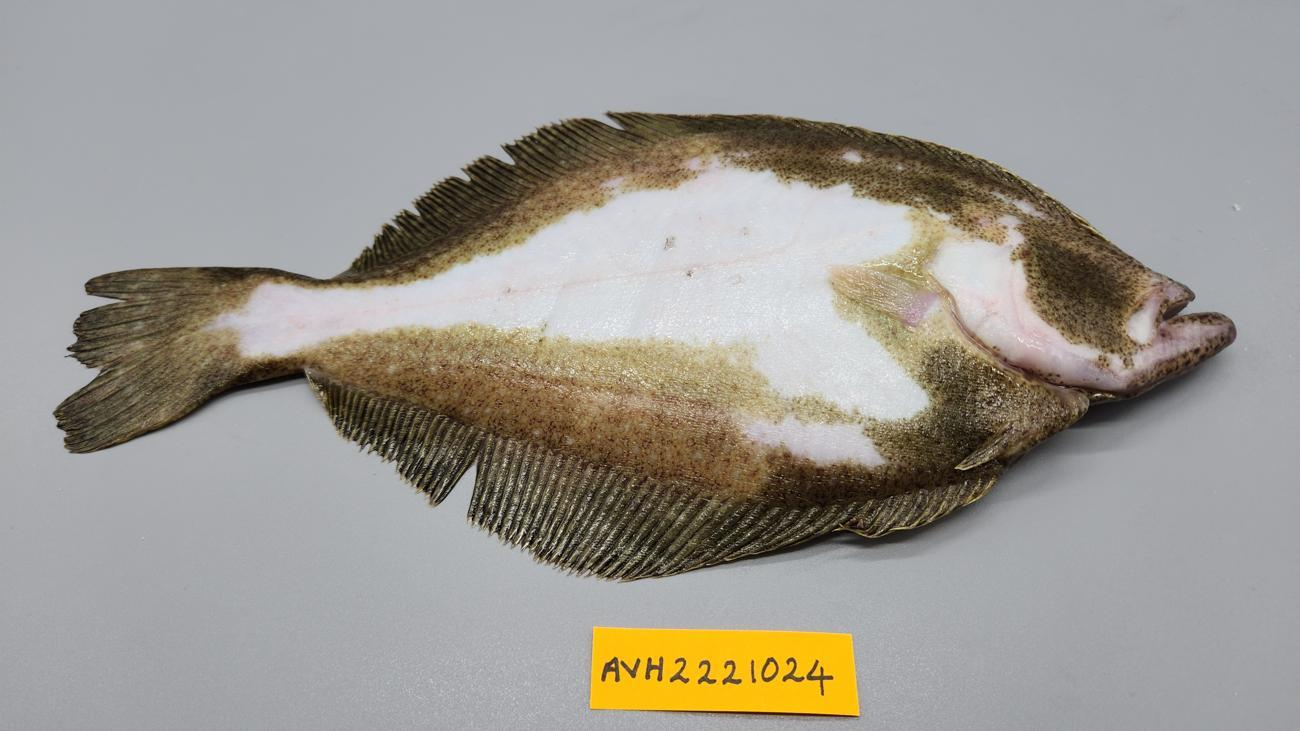VIDYH: (821, 261, 946, 325)
VIFCH: (58, 272, 162, 457)
VIOUY: (48, 98, 1234, 580)
